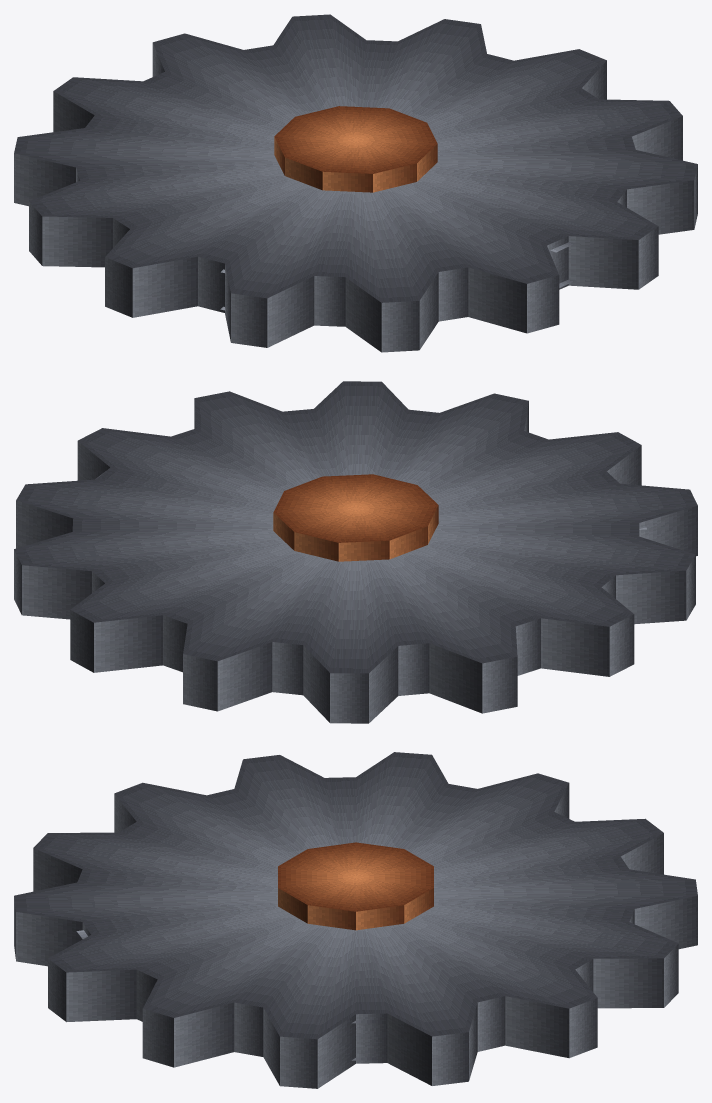
The model's file is cog.glb.
3 renders of one model, top to bottom at view 1: azimuth 30°, elevation 25°; view 2: azimuth 150°, elevation 25°; view 3: azimuth 270°, elevation 25°, orthographic.
Parts seen in each view (by area): view 1: cog; view 2: cog; view 3: cog.
Part boxes in pixels (bbox=[...]): cog: bbox=[14, 14, 697, 352]; cog: bbox=[14, 381, 697, 723]; cog: bbox=[14, 752, 697, 1088].
Bounding box in the file's own units: 1.99 × 0.28 × 2.
Materials: 1 (1 with a texture image).
